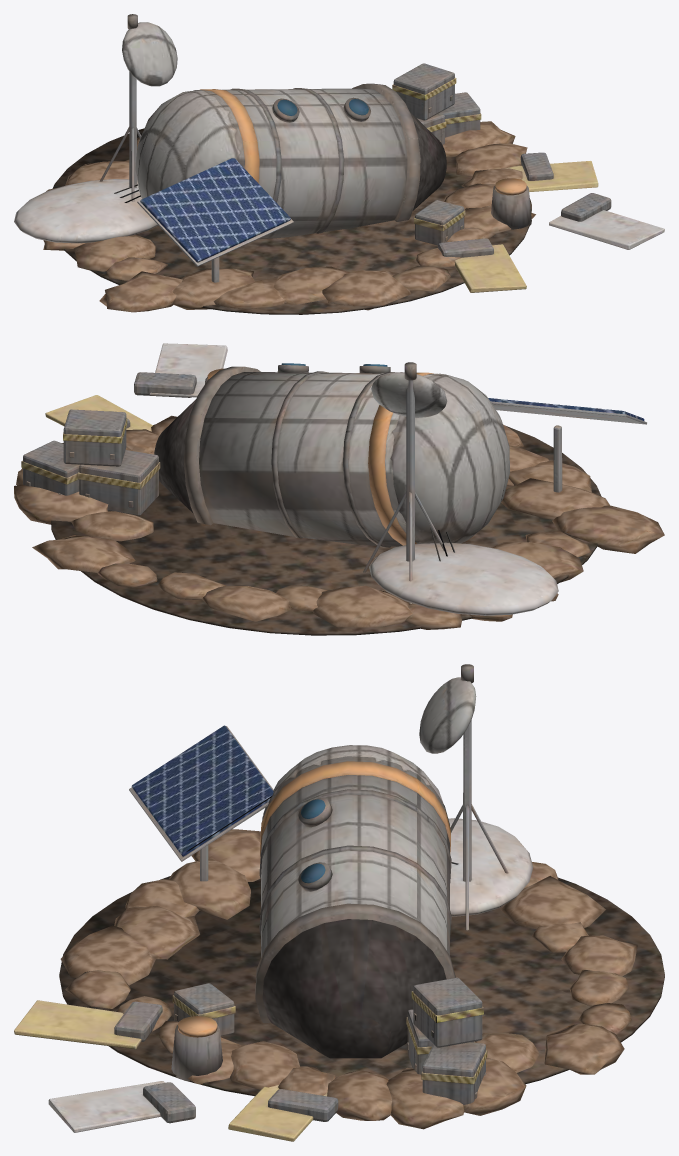
Rendered from pod.glb.
3 renders of one model, top to bottom at view 1: azimuth 30°, elevation 25°; view 2: azimuth 150°, elevation 25°; view 3: azimuth 270°, elevation 25°, orthographic. The views are drawn at different scales.
Visible parts, largest first — view 1: pod; view 2: pod; view 3: pod.
Part boxes in pixels (box(x1,y1,x2,y2)): pod: box(14, 14, 664, 314); pod: box(14, 343, 664, 635); pod: box(14, 664, 664, 1141).
Size of the model in its own units: 5.61 by 2.45 by 4.94.
Materials: 1 (1 with a texture image).
